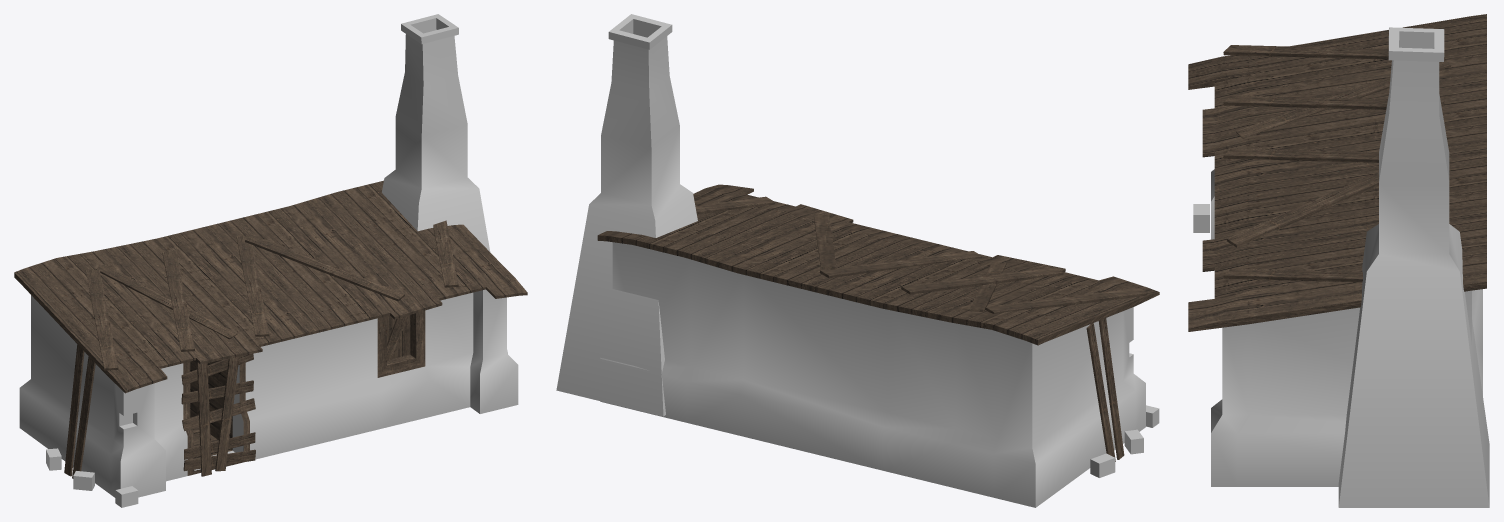
File: f1_shack01.fbx
3 views of the same model, side by side, from view 1: azimuth 30°, elevation 25°; view 2: azimuth 150°, elevation 25°; view 3: azimuth 270°, elevation 25° (orthographic). The views are drawn at different scales.
Visible parts, largest first — view 1: Mesh Object; view 2: Mesh Object; view 3: Mesh Object.
Part boxes in pixels (box(x1,y1,x2,y2)): Mesh Object: box(14, 14, 527, 507); Mesh Object: box(556, 14, 1159, 507); Mesh Object: box(1188, 14, 1489, 507).
Size of the model in its own units: 9.56 by 6.57 by 4.04.
